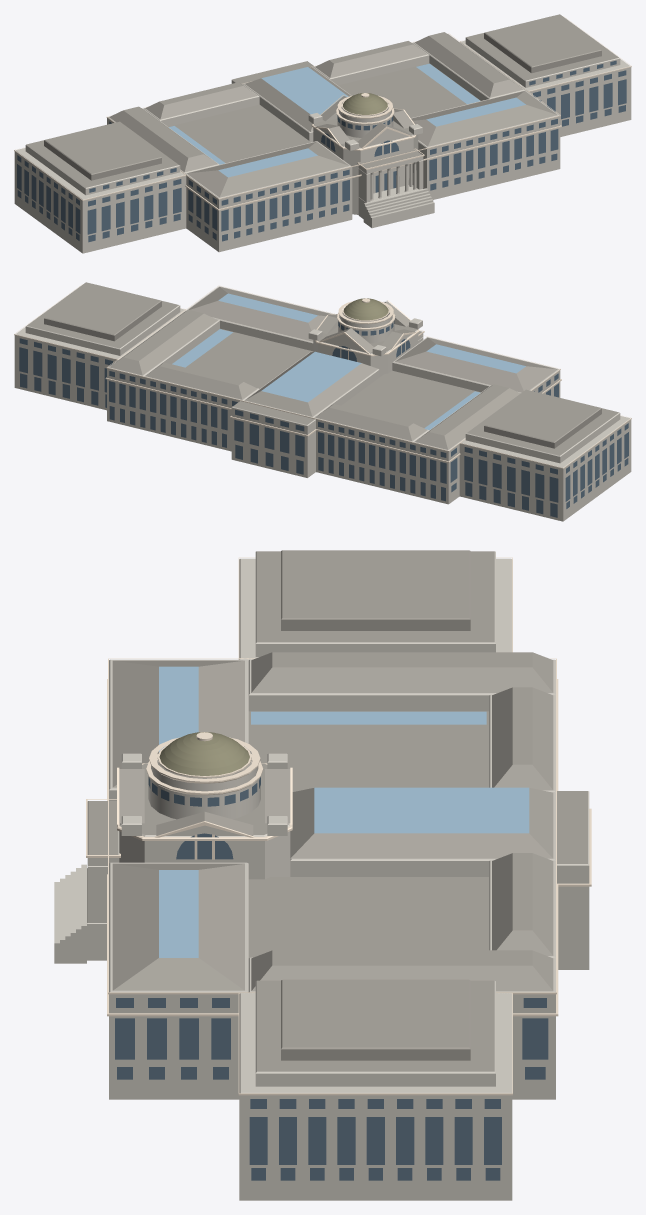
File: dc-natural-history.glb
3 renders of one model, top to bottom at view 1: azimuth 30°, elevation 25°; view 2: azimuth 150°, elevation 25°; view 3: azimuth 270°, elevation 25°, orthographic. The views are drawn at different scales.
Parts seen in each view (by area): view 1: National Museum of Natural History; view 2: National Museum of Natural History; view 3: National Museum of Natural History.
Part boxes in pixels (left/top/right/bottom): National Museum of Natural History: left=14, top=14, right=631, bottom=253; National Museum of Natural History: left=14, top=282, right=631, bottom=521; National Museum of Natural History: left=54, top=550, right=591, bottom=1200.
Size of the model in its own units: 274 by 47 by 116.
